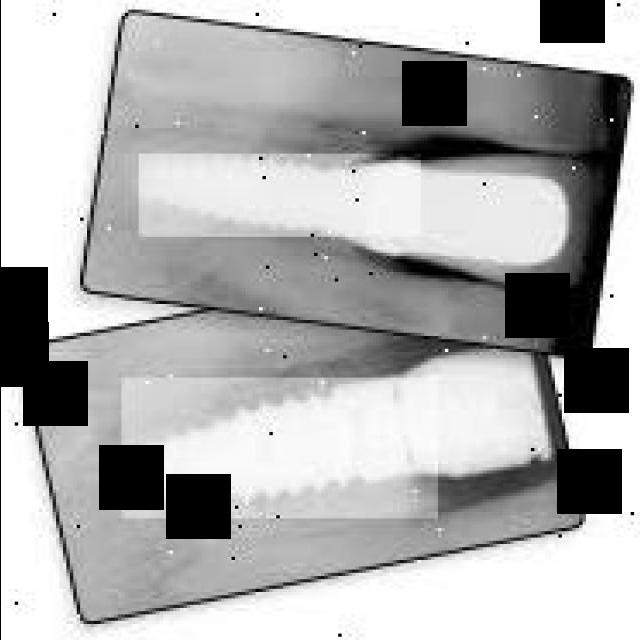Osstem Implant: (116, 372, 442, 568), (136, 153, 420, 239)
